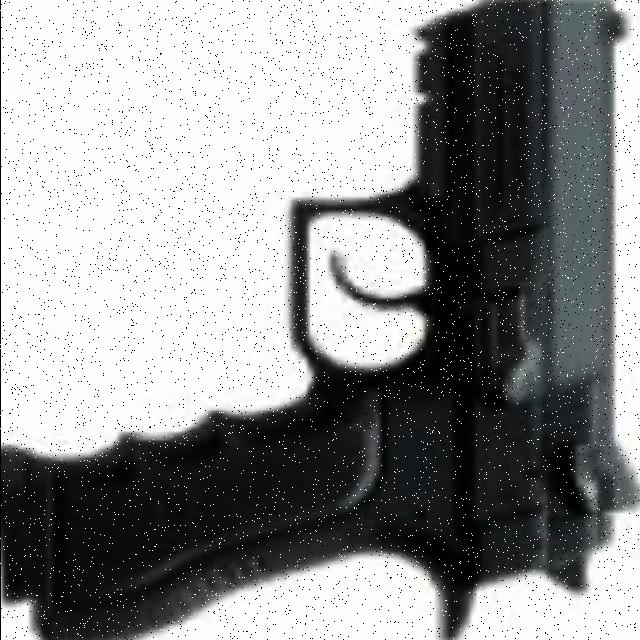Guns: (0, 0, 635, 640)
